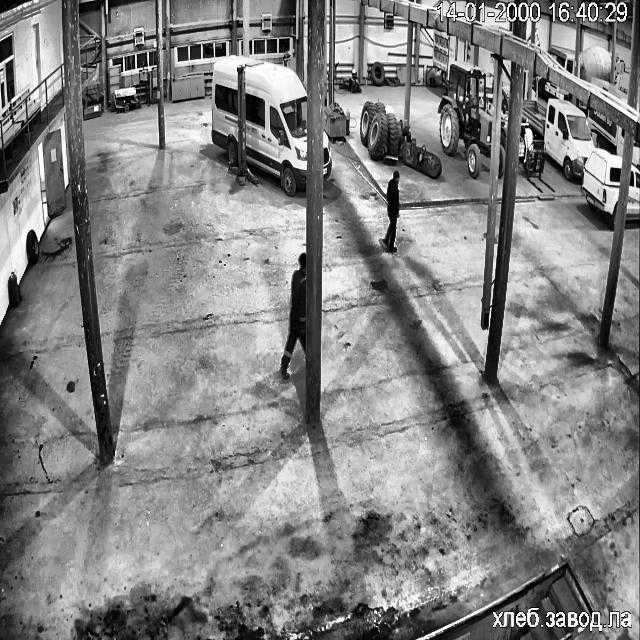car lift: (228, 62, 257, 185)
fire extinguisher: (8, 272, 21, 306)
mechanic: (280, 252, 304, 379), (384, 170, 399, 252)
tractor: (438, 61, 492, 178), (498, 140, 504, 177), (500, 136, 502, 137), (500, 114, 500, 116), (500, 108, 500, 110)
truck: (212, 55, 307, 196), (523, 99, 593, 179), (581, 148, 620, 227), (592, 80, 640, 118), (588, 108, 624, 156), (576, 45, 610, 83), (534, 77, 571, 100), (548, 45, 576, 73), (626, 166, 640, 220), (323, 132, 332, 178), (615, 57, 624, 84), (632, 141, 640, 164)
